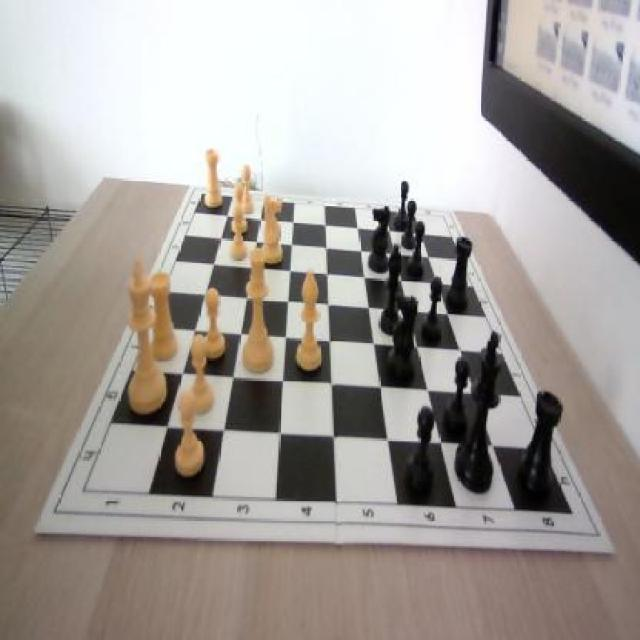bishop: (378, 243, 401, 340)
black-bishop: (454, 331, 501, 495)
black-king: (386, 295, 418, 387), (368, 203, 390, 273)
black-knight: (406, 409, 436, 497), (443, 354, 469, 439), (420, 274, 443, 344), (408, 223, 424, 279), (394, 182, 410, 233), (402, 200, 418, 248)
black-queen: (518, 390, 562, 504), (446, 235, 473, 310)
black-rook: (295, 266, 323, 372)
white-bishop: (121, 260, 167, 414)
white-king: (260, 196, 284, 266)
white-knight: (172, 391, 205, 480), (190, 335, 218, 418), (200, 286, 226, 358), (230, 204, 248, 260), (231, 182, 246, 234), (240, 163, 253, 213)
white-pawn: (241, 246, 274, 373)
white-queen: (148, 272, 178, 361), (205, 149, 223, 209)
